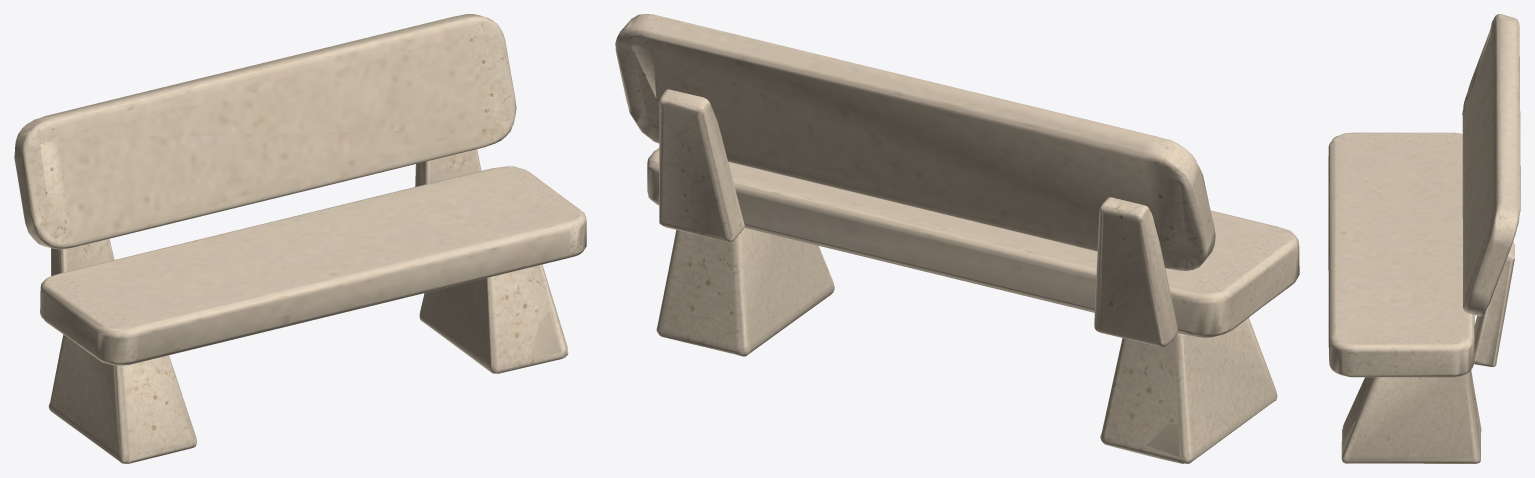
File: b667efc2-fe59-4b8d-a71a-07610fa21b9c.glb
3 renders of one model, left to right at view 1: azimuth 30°, elevation 25°; view 2: azimuth 150°, elevation 25°; view 3: azimuth 270°, elevation 25°, orthographic. The views are drawn at different scales.
Parts seen in each view (by area): view 1: Mesh_0; view 2: Mesh_0; view 3: Mesh_0.
Boxes of the visible parts, x1,y1,x2,y2 form: Mesh_0: (14,14,586,463); Mesh_0: (615,14,1299,463); Mesh_0: (1328,14,1520,463).
Bounding box in the file's own units: 1.45 × 0.8 × 0.5466.
Materials: 1 (1 with a texture image).
